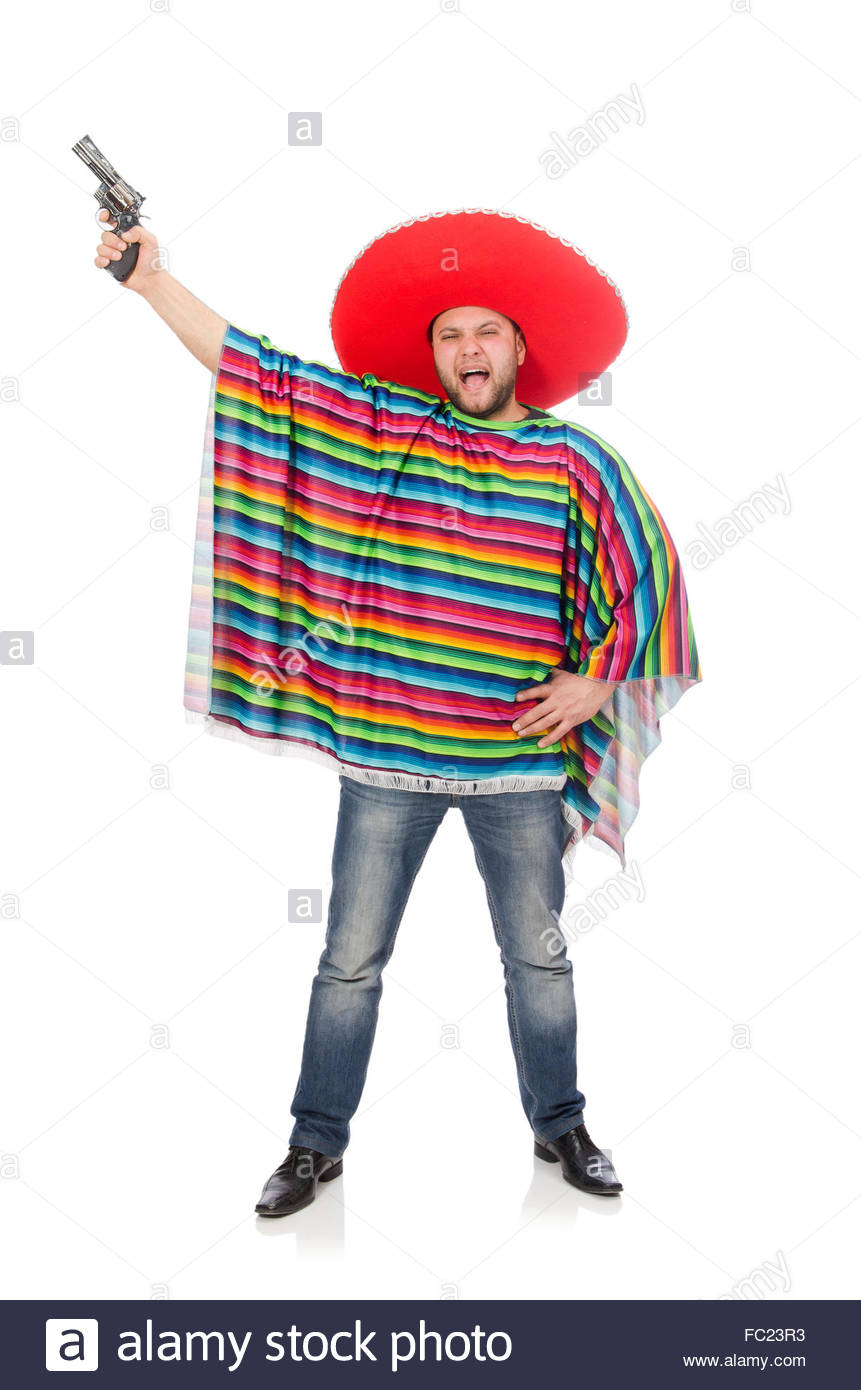pistol: (39, 77, 180, 325)
